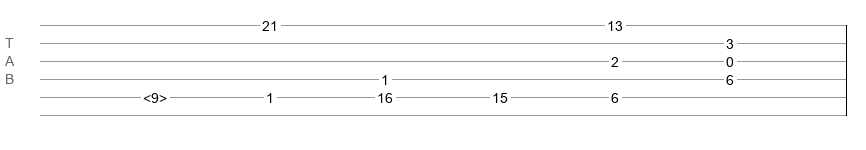0: (726, 54, 734, 64)
1: (266, 90, 274, 100), (381, 72, 389, 82)
13: (607, 18, 623, 28)
15: (492, 90, 508, 100)
16: (377, 90, 393, 100)
2: (611, 54, 619, 64)
21: (262, 18, 278, 28)
3: (726, 36, 734, 46)
6: (611, 90, 619, 100), (726, 72, 734, 82)
harmonic: (143, 90, 167, 100)
